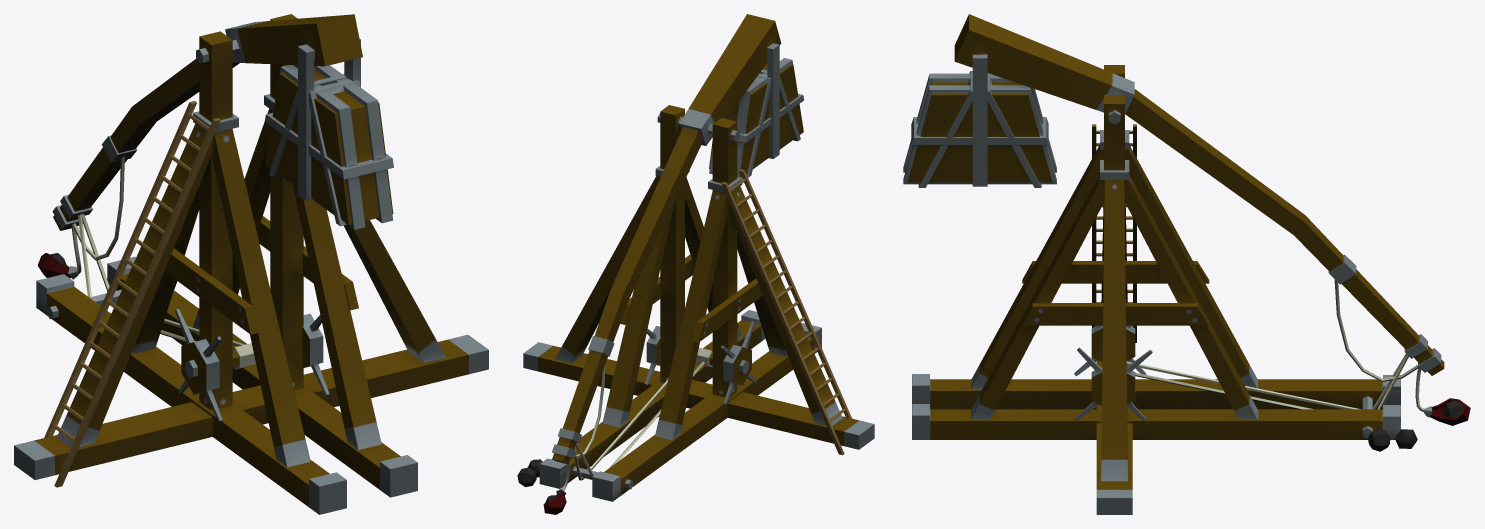
The model's file is trebuchet.obj.
3 views of the same model, side by side, from view 1: azimuth 30°, elevation 25°; view 2: azimuth 150°, elevation 25°; view 3: azimuth 270°, elevation 25° (orthographic). The views are drawn at different scales.
Visible parts, largest first — view 1: obj1; view 2: obj1; view 3: obj1.
Boxes of the visible parts, bbox=[...] form: obj1: bbox=[14, 14, 488, 514]; obj1: bbox=[517, 14, 874, 514]; obj1: bbox=[903, 14, 1470, 514].
Bounding box in the file's own units: 1.6 × 1.58 × 2.
